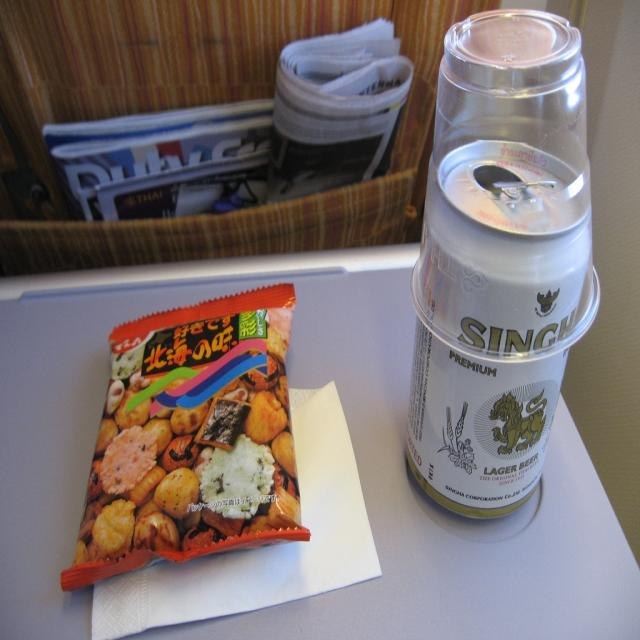singha: (432, 308, 578, 489)
